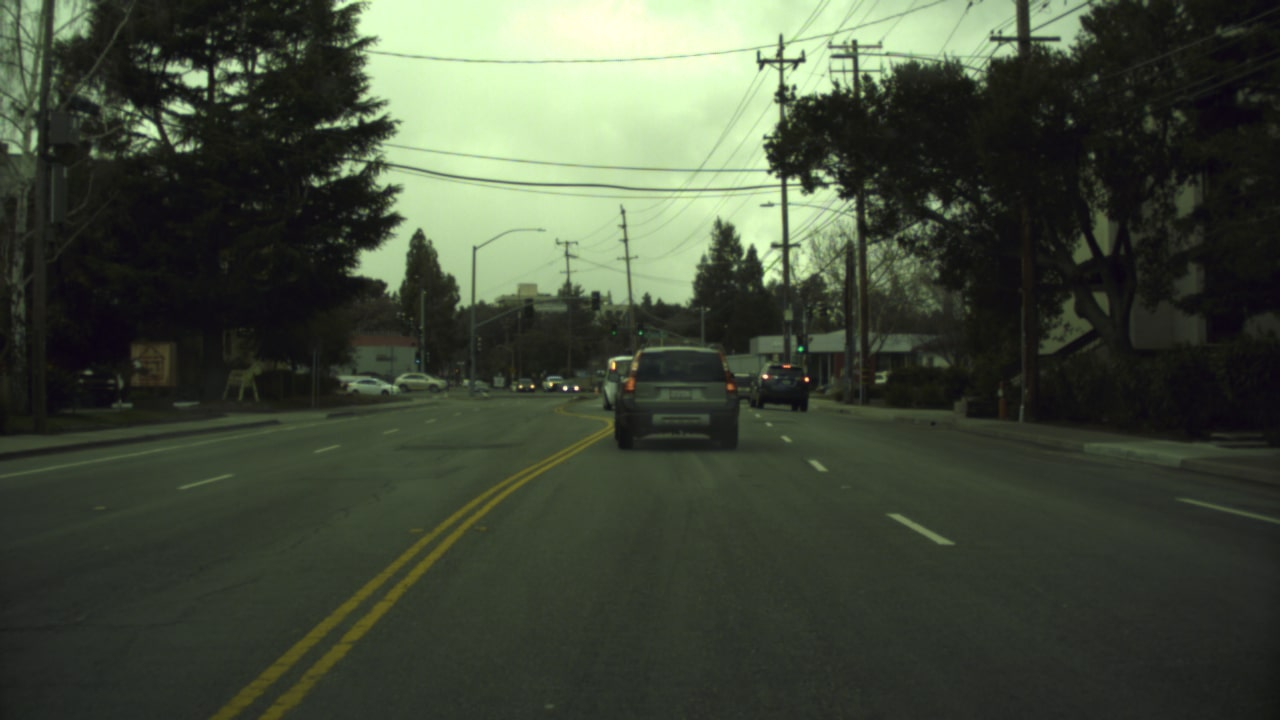signal: (794, 337, 807, 359), (632, 325, 644, 340)
